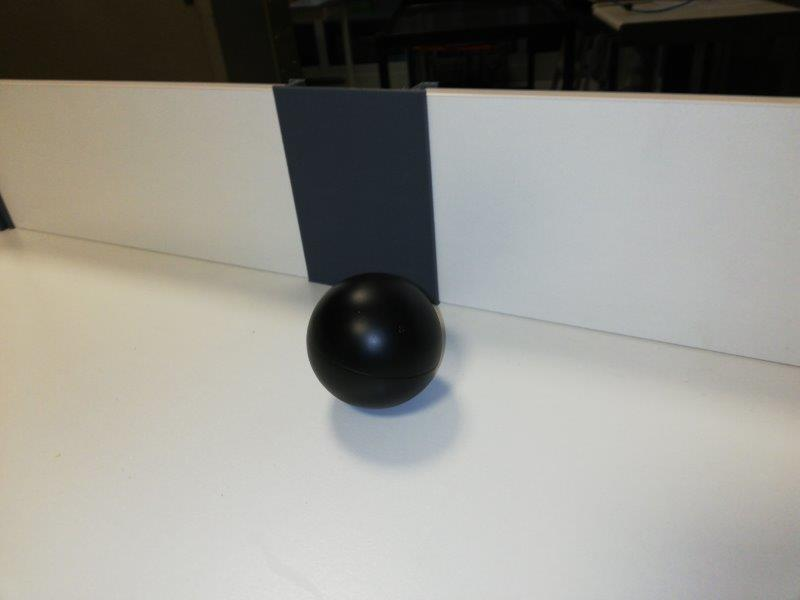nera: (306, 272, 442, 408)
